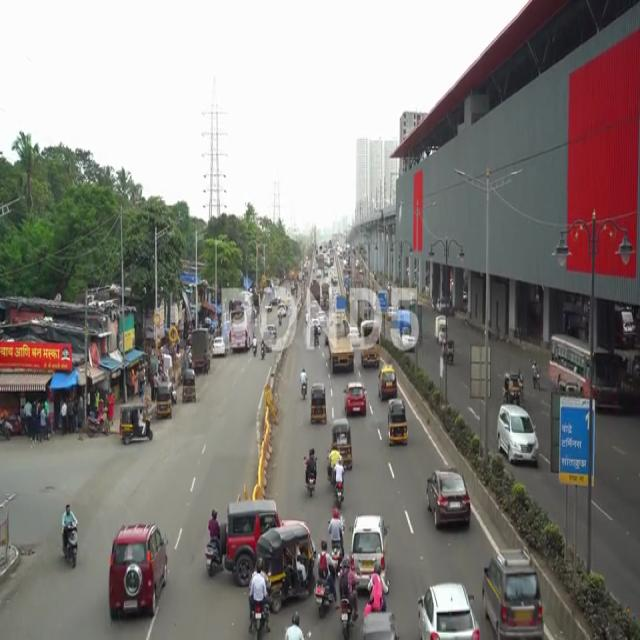bus: (548, 329, 623, 417)
car: (108, 520, 170, 618), (482, 549, 547, 640), (417, 584, 481, 640), (422, 465, 472, 530), (497, 405, 539, 467), (343, 380, 367, 417)
motorbike: (248, 559, 269, 640), (338, 555, 358, 639), (314, 537, 334, 620), (204, 503, 224, 583), (60, 500, 79, 570), (303, 443, 318, 502), (333, 459, 347, 509), (530, 360, 542, 396)
rikshaw: (120, 400, 152, 443), (386, 400, 408, 450), (310, 383, 328, 424), (502, 366, 521, 403), (182, 366, 196, 404)
truck: (192, 330, 213, 373)
